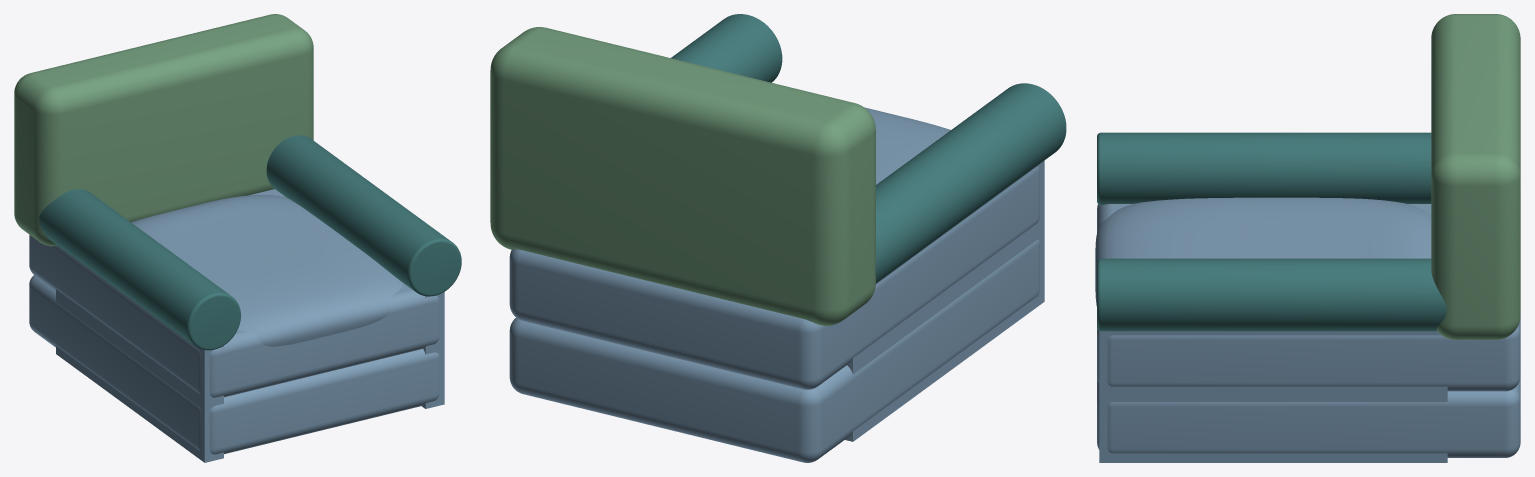
The model's file is box_chair__3f870233a579.glb.
The picture shows the model from 3 angles, left to right: view 1: azimuth 30°, elevation 25°; view 2: azimuth 150°, elevation 25°; view 3: azimuth 270°, elevation 25°; orthographic projection. The views are drawn at different scales.
Visible parts, largest first — view 1: back, lower, seat, arm_roll.001, arm_roll, side_wall.001, side_wall; view 2: back, lower, arm_roll.001, side_wall.001, arm_roll, seat; view 3: lower, back, arm_roll, arm_roll.001, seat, side_wall.
Part boxes in pixels (x1,y1,x2,y2): back: (14,14,313,246); lower: (29,189,439,454); seat: (131,195,403,346); arm_roll.001: (39,189,240,350); arm_roll: (266,135,461,296); side_wall.001: (56,245,223,462); side_wall: (422,292,444,408); back: (490,27,875,325); lower: (509,166,1039,462); arm_roll.001: (875,83,1066,283); side_wall.001: (845,160,1044,441); arm_roll: (671,14,782,82); seat: (864,107,950,184); lower: (1097,204,1520,457); back: (1431,14,1520,339); arm_roll: (1097,258,1446,331); arm_roll.001: (1097,132,1431,204); seat: (1095,197,1431,306); side_wall: (1099,331,1447,462).
Size of the model in its own units: 0.795 by 0.726 by 0.9035.
